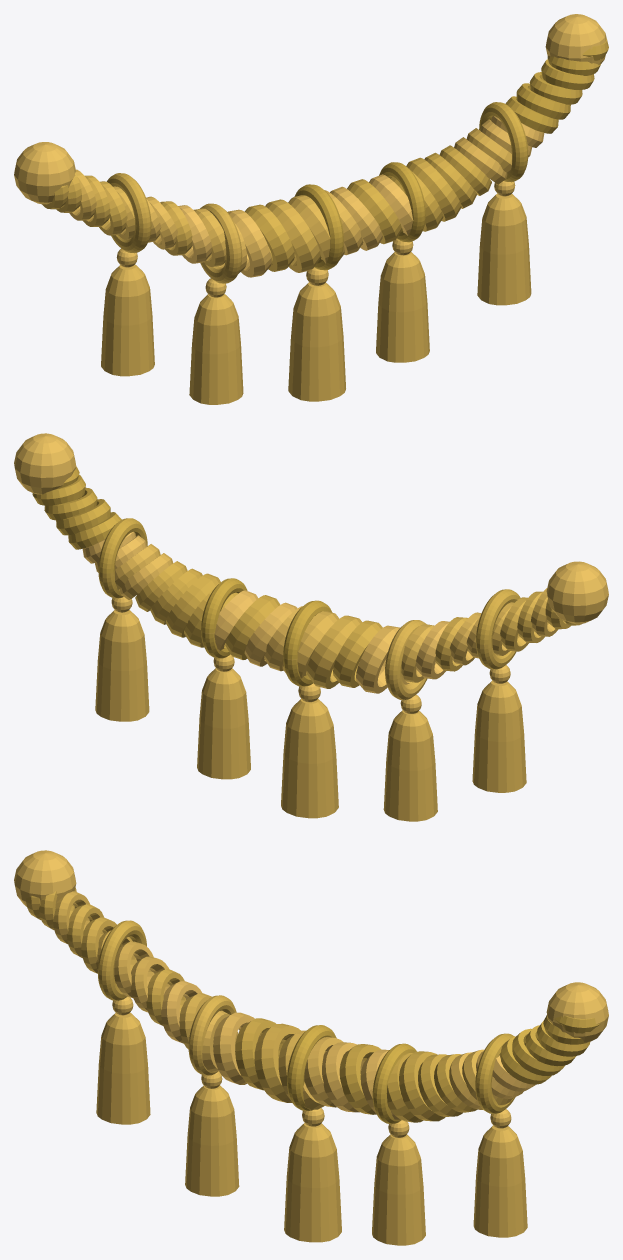
Rendered from select_simenawa.obj.
The picture shows the model from 3 angles, top to bottom: view 1: azimuth 30°, elevation 25°; view 2: azimuth 150°, elevation 25°; view 3: azimuth 330°, elevation 25°; orthographic projection.
Parts seen in each view (by area): view 1: トーラス.040; view 2: トーラス.040; view 3: トーラス.040.
Part boxes in pixels (x1=…): トーラス.040: x1=14, y1=14, x2=608, y2=404; トーラス.040: x1=14, y1=433, x2=608, y2=821; トーラス.040: x1=14, y1=850, x2=608, y2=1245.
Size of the model in its own units: 77.17 by 38.93 by 10.02.
1 material, 1 textured.
